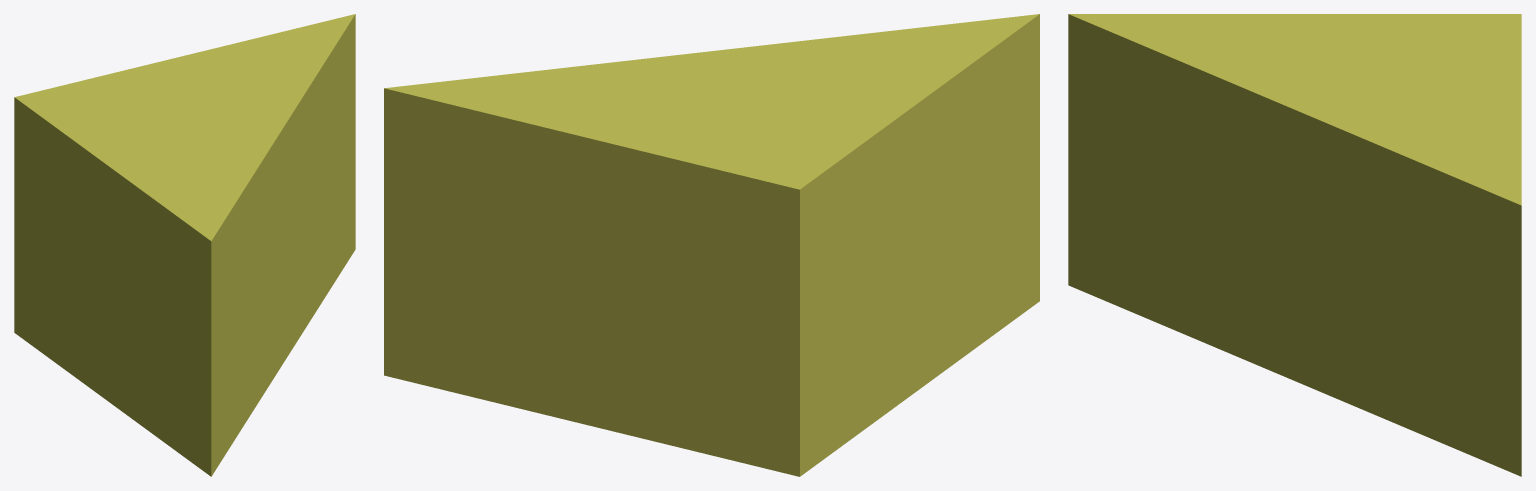
File: cheese.fbx
3 views of the same model, side by side, from view 1: azimuth 30°, elevation 25°; view 2: azimuth 150°, elevation 25°; view 3: azimuth 270°, elevation 25° (orthographic). The views are drawn at different scales.
Visible parts, largest first — view 1: Cube; view 2: Cube; view 3: Cube.
Part boxes in pixels (x1,y1,x2,y2): Cube: (14,14,355,476); Cube: (384,14,1039,476); Cube: (1068,14,1521,476).
Bounding box in the file's own units: 200 × 132 × 200.
